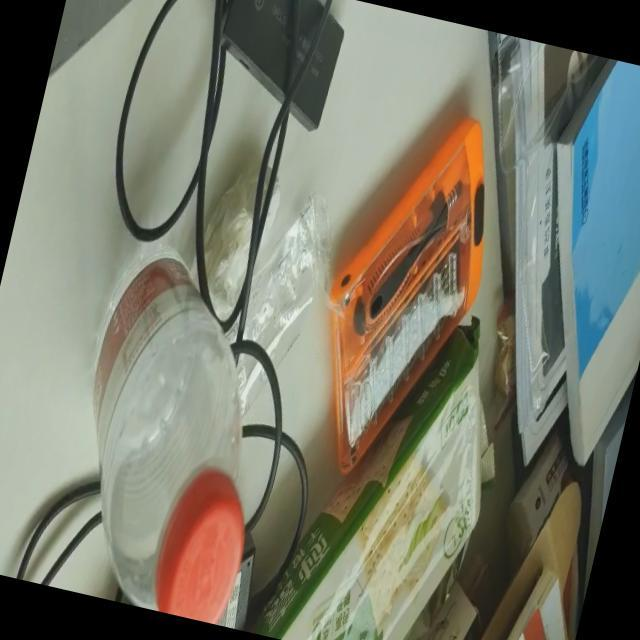good: (44, 231, 310, 627)
